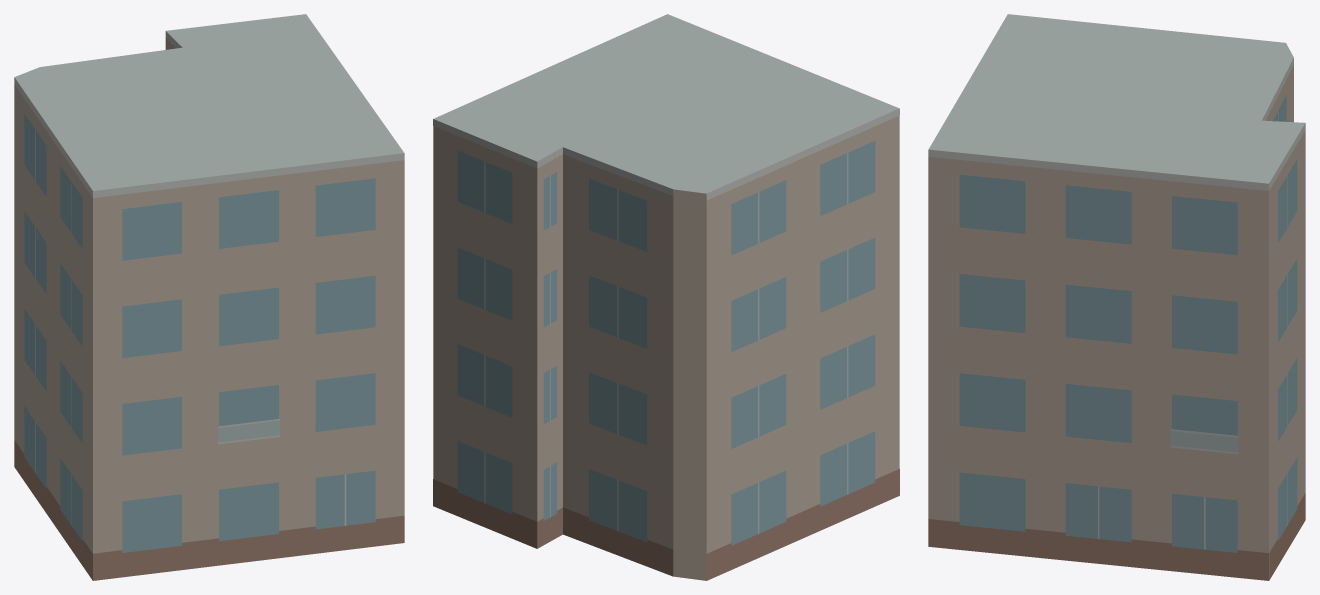
Rendered from survey-upis-32867590.glb.
3 renders of one model, left to right at view 1: azimuth 30°, elevation 25°; view 2: azimuth 150°, elevation 25°; view 3: azimuth 270°, elevation 25°, orthographic. The views are drawn at different scales.
Parts seen in each view (by area): view 1: survey-upis-32867590.tmp; view 2: survey-upis-32867590.tmp; view 3: survey-upis-32867590.tmp.
Boxes of the visible parts, left/top/right/bottom form: survey-upis-32867590.tmp: left=14, top=14, right=404, bottom=580; survey-upis-32867590.tmp: left=433, top=14, right=899, bottom=580; survey-upis-32867590.tmp: left=928, top=14, right=1305, bottom=580.
Size of the model in its own units: 12.38 by 13.5 by 11.63.
